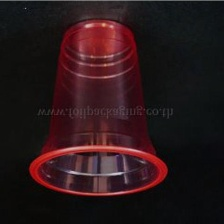glass: (23, 12, 176, 199)
